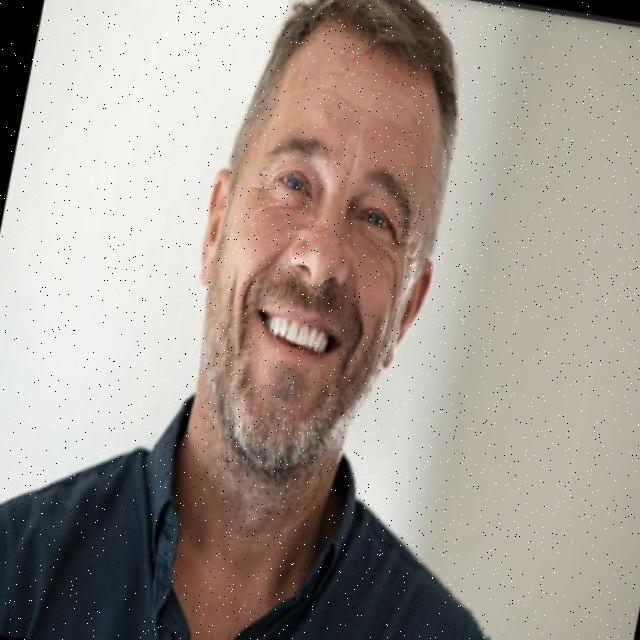puffy_eyes: (260, 182, 306, 205), (358, 223, 397, 245)
